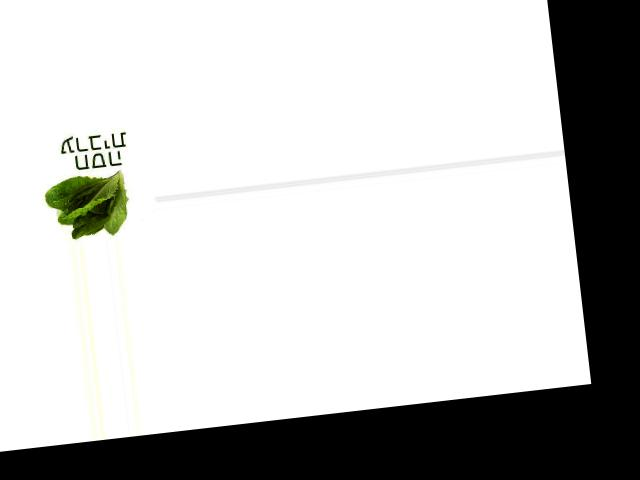lettuce: (41, 162, 136, 242)
